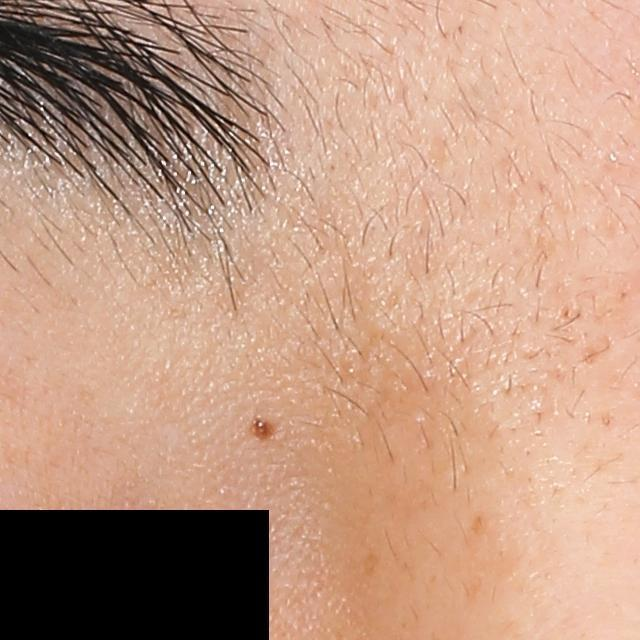melasma: (361, 548, 381, 581)
nevus: (251, 412, 277, 443)
